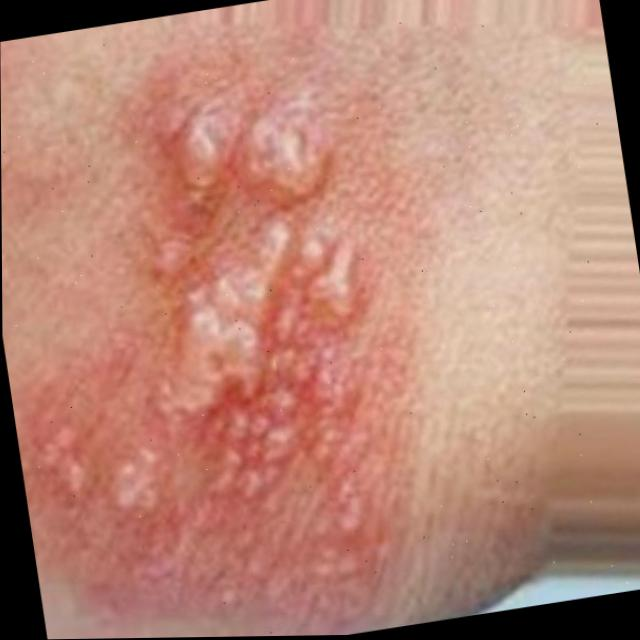Shingles: (5, 77, 435, 630)
